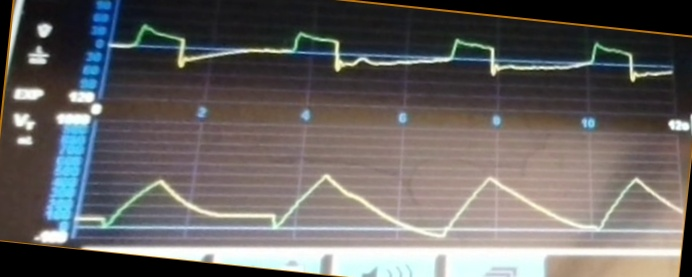Ineffective_effort Flow: (114, 21, 672, 88)
Ineffective_effort Volume: (81, 164, 679, 241)
